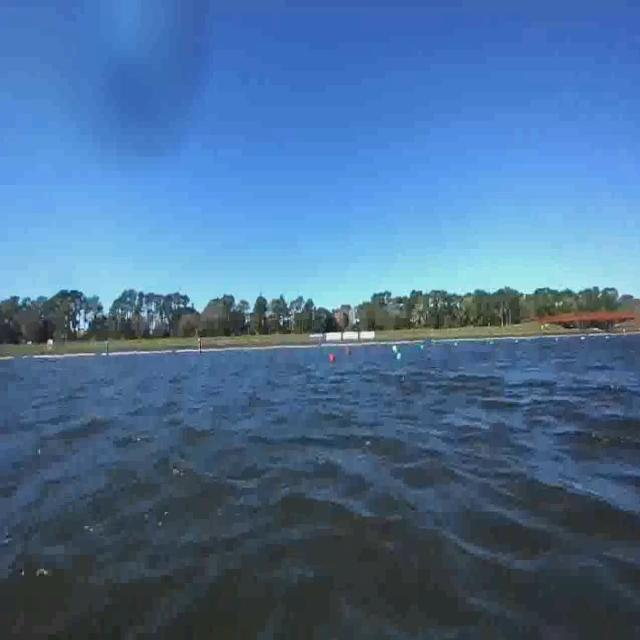green-buoy: (395, 350, 403, 362), (418, 343, 426, 355), (391, 341, 397, 355)
red-buoy: (330, 352, 338, 365)
